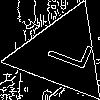L: (37, 29, 94, 72)
